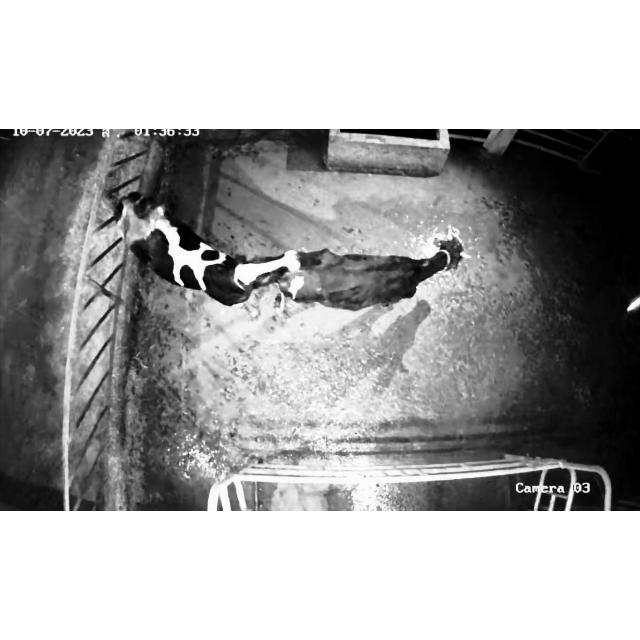propping: (203, 225, 341, 308)
